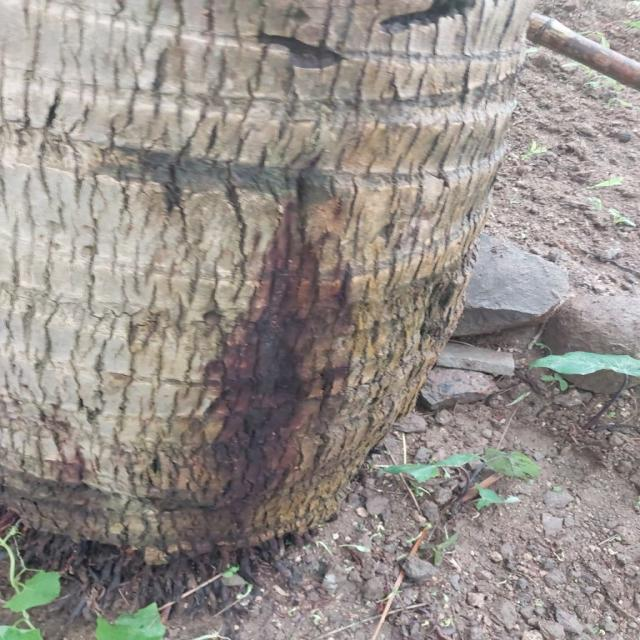stembleeding: (145, 149, 329, 529)
